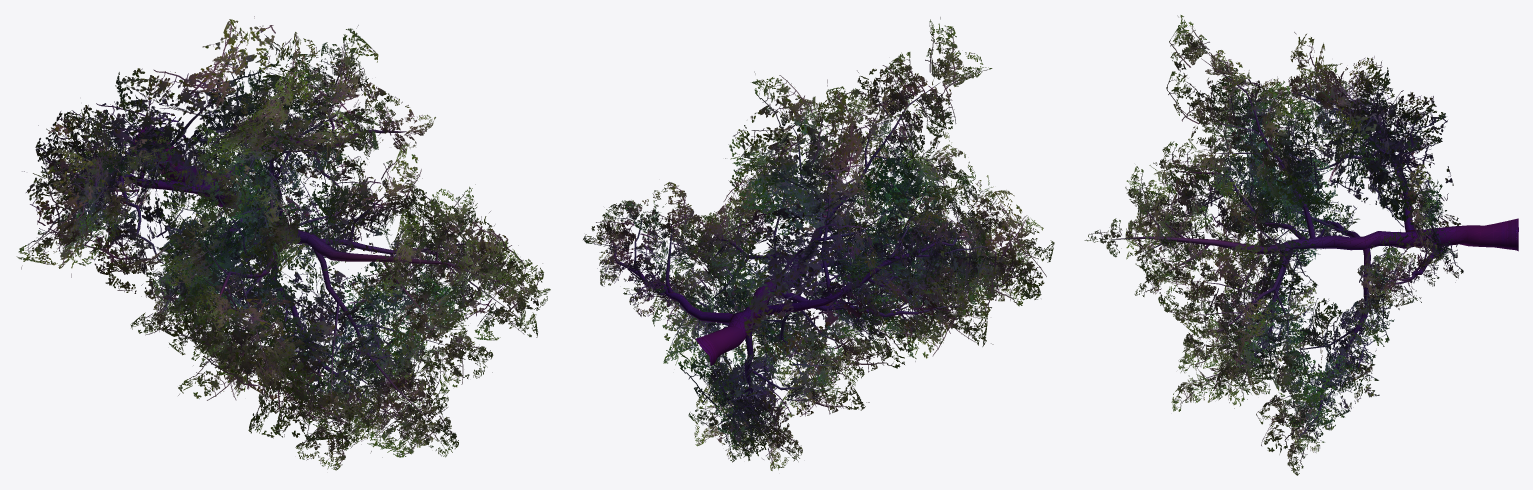
Rendered from oak_big_oak_tree_003_lod0.glb.
3 views of the same model, side by side, from view 1: azimuth 30°, elevation 25°; view 2: azimuth 150°, elevation 25°; view 3: azimuth 270°, elevation 25° (orthographic). The views are drawn at different scales.
Parts seen in each view (by area): view 1: Big_oak_tree__003_LOD0; view 2: Big_oak_tree__003_LOD0; view 3: Big_oak_tree__003_LOD0.
Part boxes in pixels (x1,y1,x2,y2): Big_oak_tree__003_LOD0: (16,16,550,470); Big_oak_tree__003_LOD0: (583,17,1054,470); Big_oak_tree__003_LOD0: (1084,15,1518,475).
Bounding box in the file's own units: 19.15 × 19.11 × 19.24.
2 materials, 2 textured.
